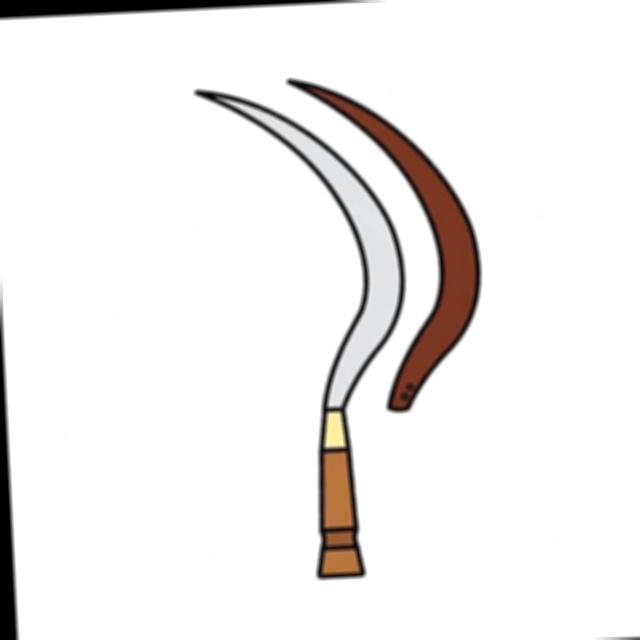Sharp-Object: (182, 57, 439, 595)
